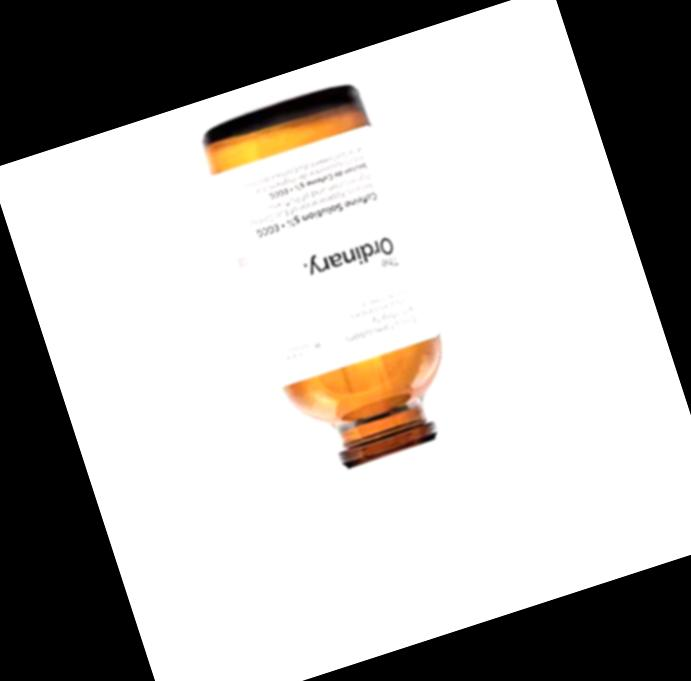cosmetic: (195, 80, 523, 635)
